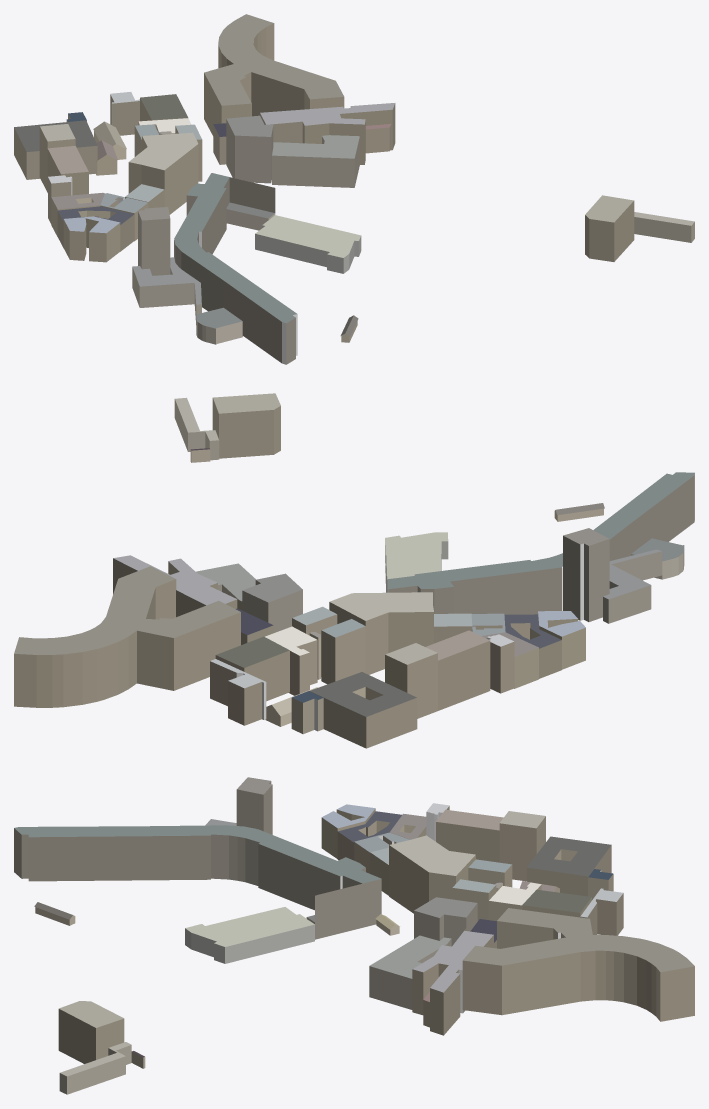
3 views of the same model, one above another, from view 1: azimuth 30°, elevation 25°; view 2: azimuth 150°, elevation 25°; view 3: azimuth 270°, elevation 25° (orthographic). The views are drawn at different scales.
Parts seen in each view (by area): view 1: tuile; view 2: tuile; view 3: tuile.
Boxes of the visible parts, box(x1,y1,x2,y2) form: tuile: box(14, 14, 694, 364); tuile: box(14, 393, 694, 748); tuile: box(14, 777, 694, 1094).
Size of the model in its own units: 270 by 39.46 by 304.
